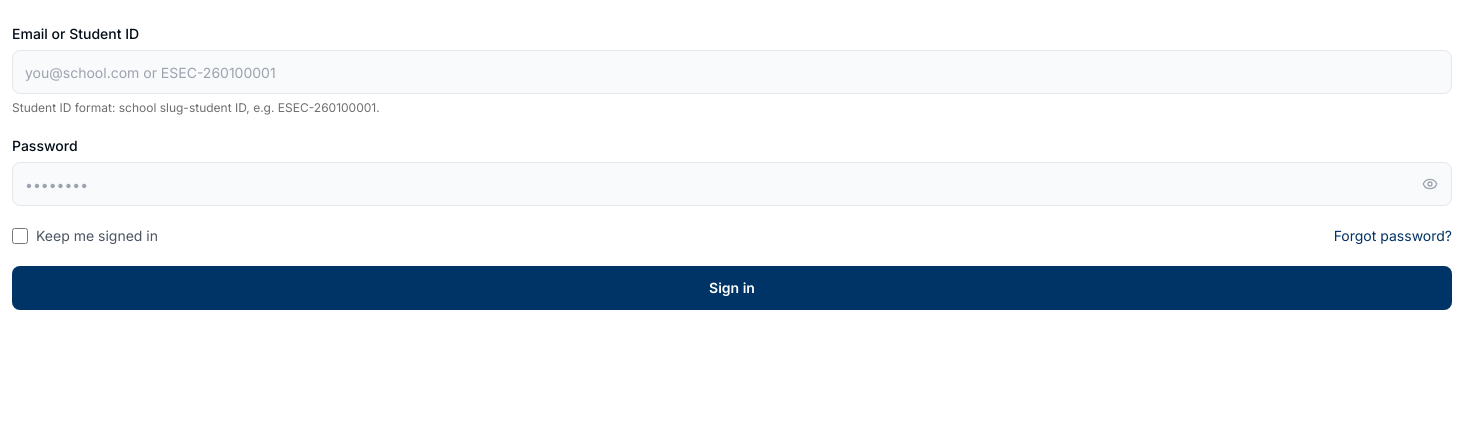
sign-in form › shows the same banner for the API's 403 refusal (X-Talim-App)
Type "parent@school.test" into the field labelled "Email or Student ID" at (732, 72), box [12,50,1452,94]
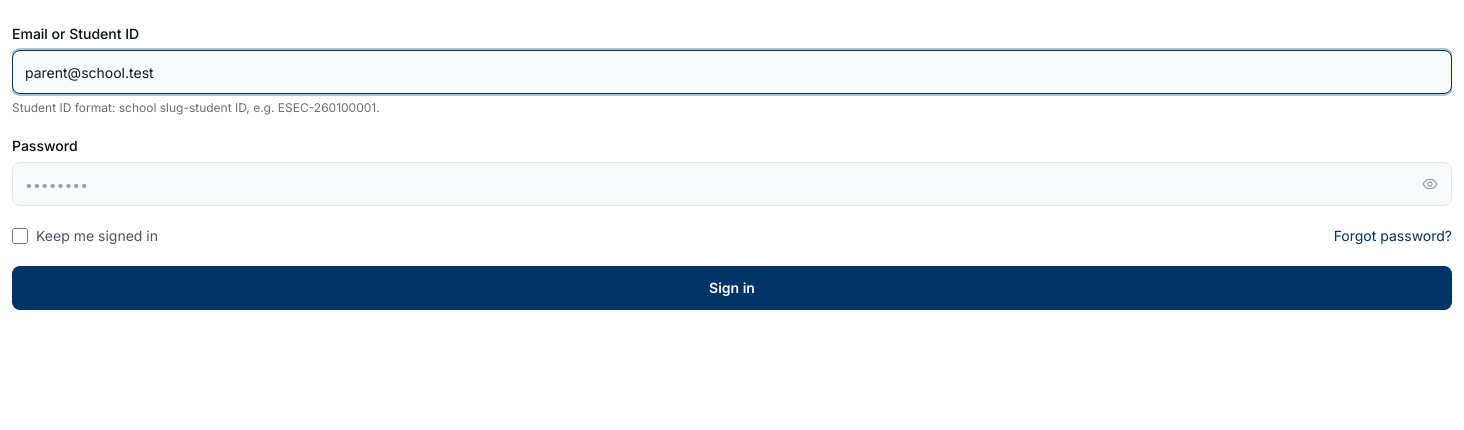
Type "Secret#1" into the password field labelled "Password" at (732, 184), box [12,162,1452,206]
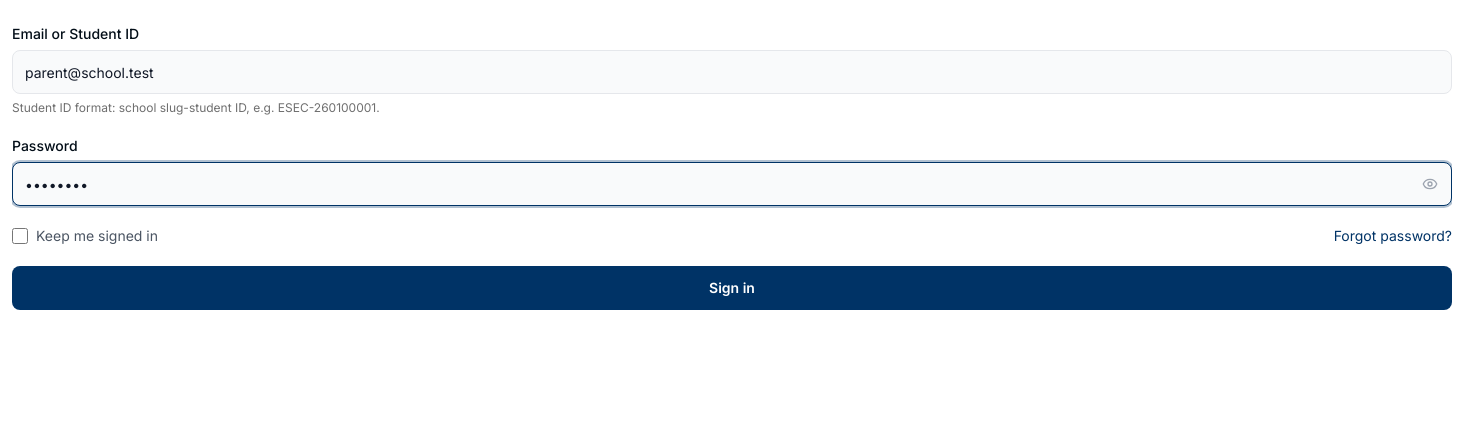
Click the button "Sign in" at (732, 288), box [12,266,1452,310]
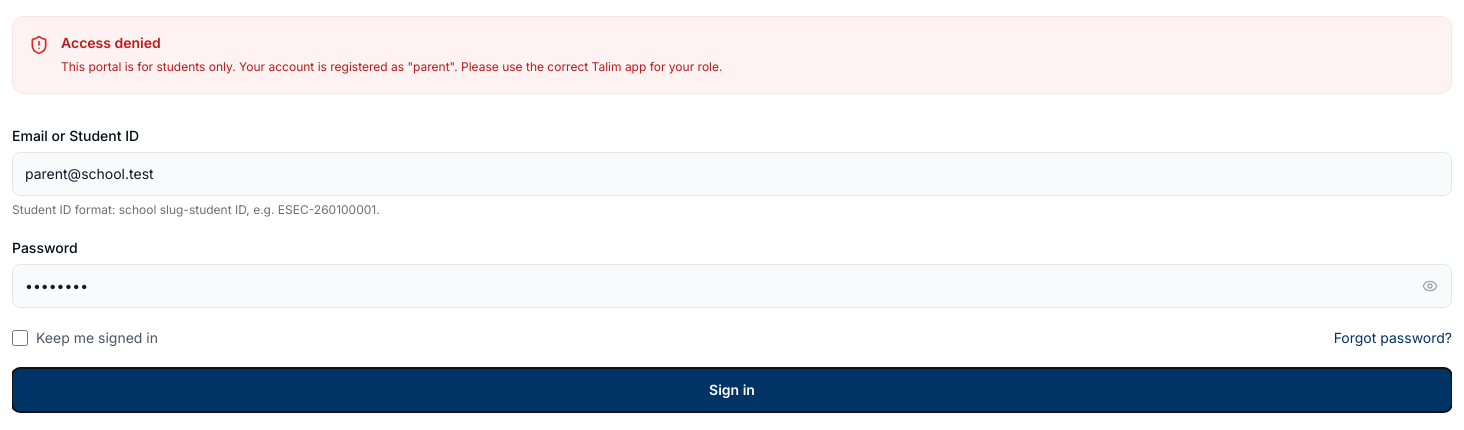
Expected: the message shows "Access denied", [61,34,161,51]
Expected: the message shows "This portal is for students only. Your account is registered as \"parent\".", [61,59,722,74]
